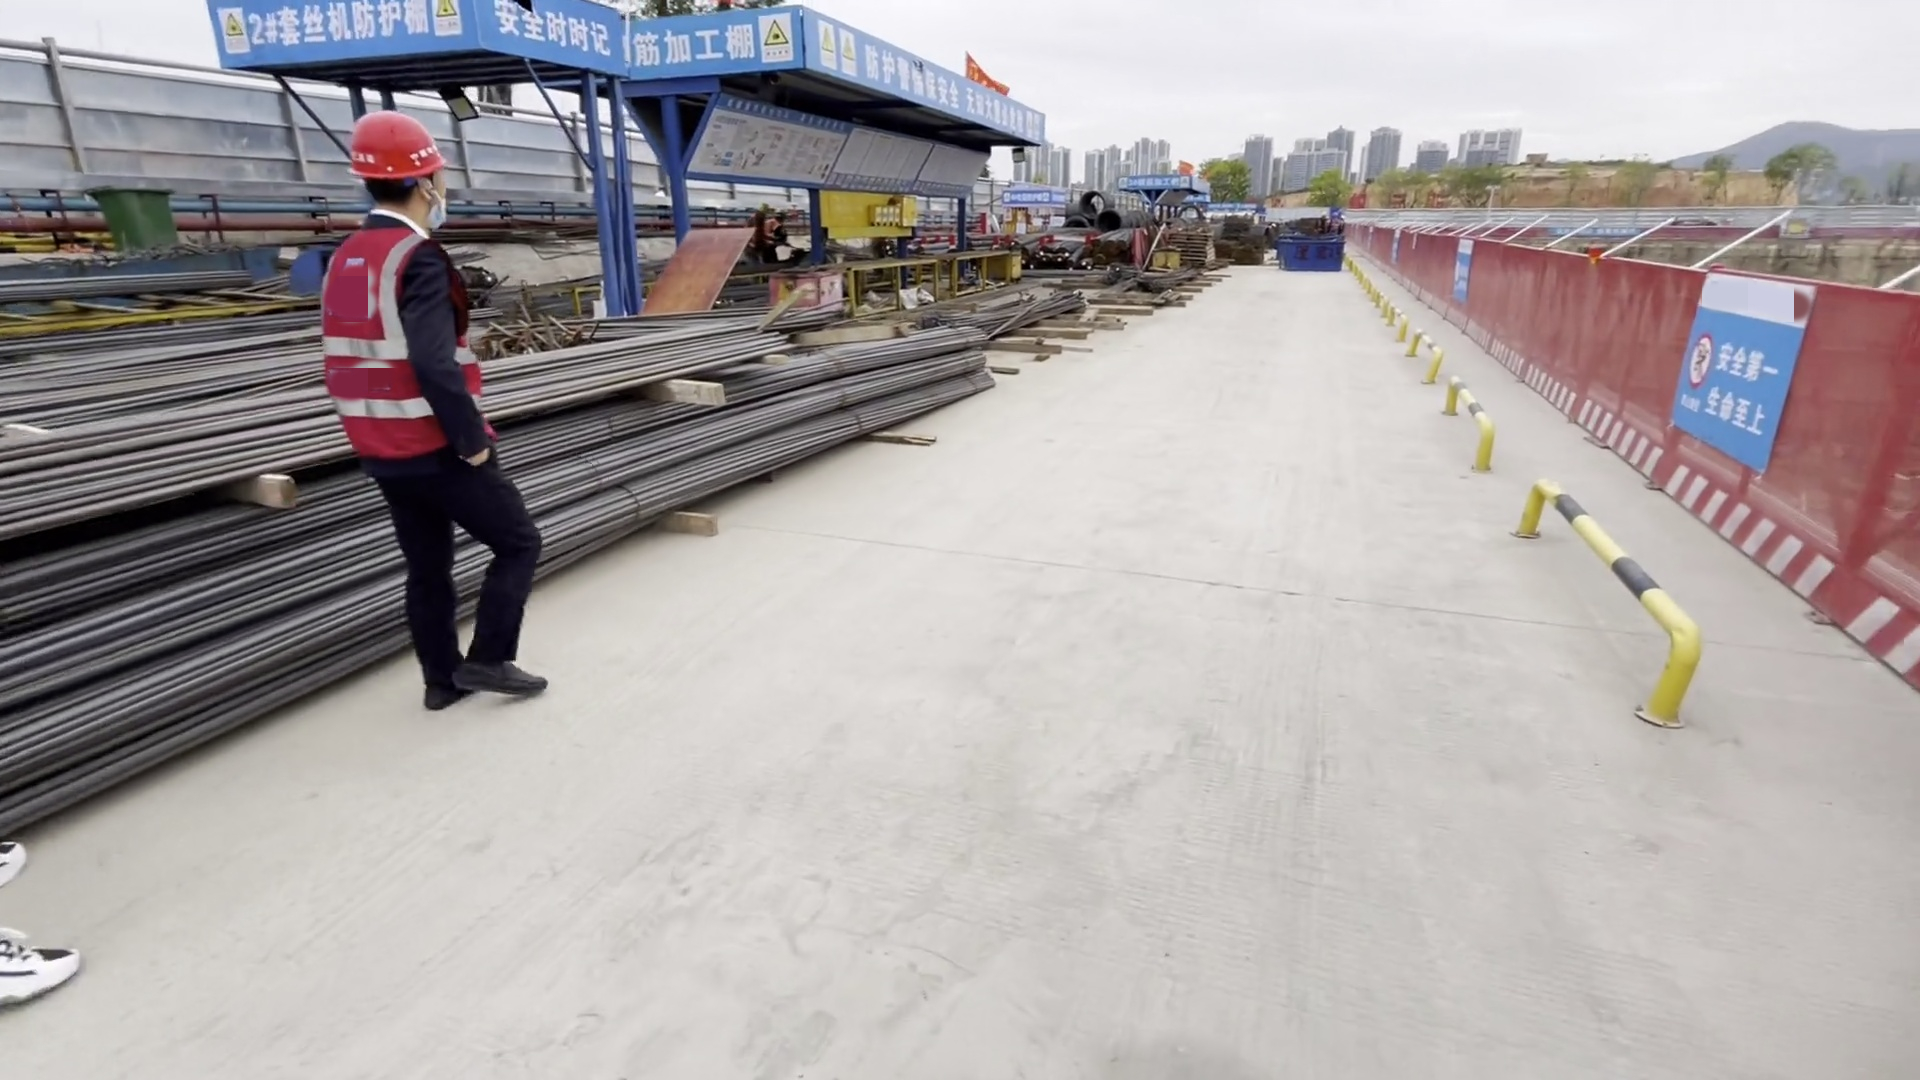ebox: (858, 189, 927, 228)
fence: (1330, 204, 1683, 487)
helmet: (341, 105, 438, 178)
hopper: (1270, 232, 1340, 274)
person: (308, 105, 545, 739)
rebar: (1, 311, 988, 851), (910, 289, 1089, 345)
slogan: (711, 17, 1072, 180), (1668, 274, 1788, 478), (432, 1, 624, 73)
vest: (308, 245, 455, 455)
